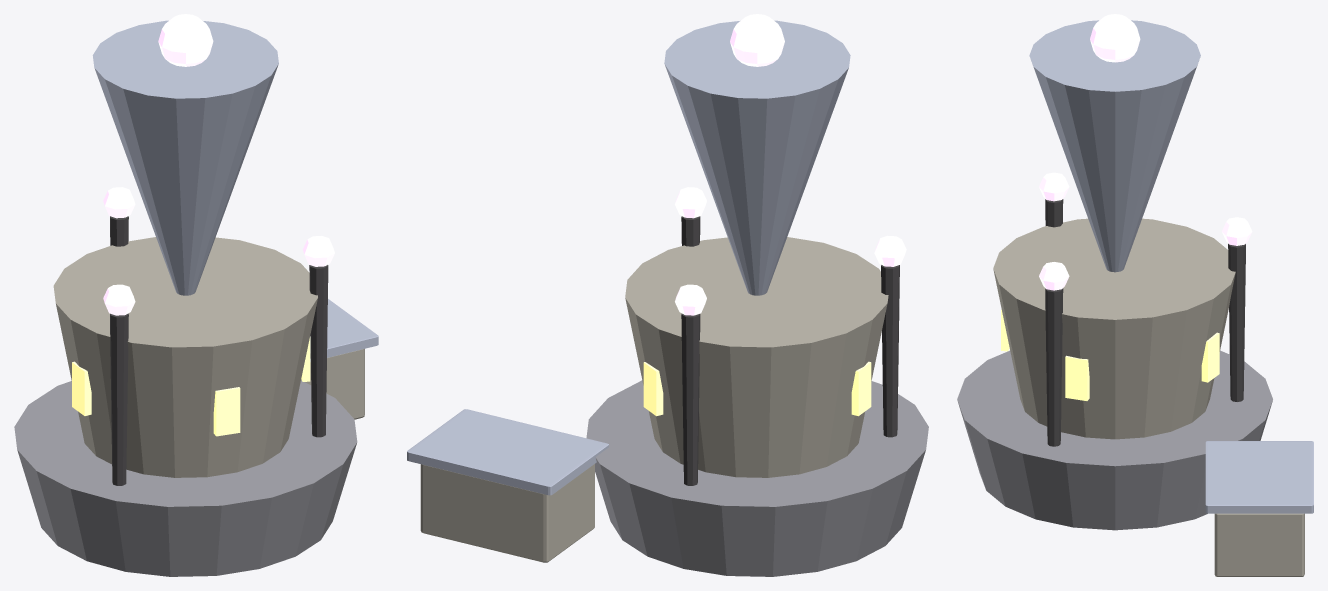
The model's file is hq_luminar.glb.
3 views of the same model, side by side, from view 1: azimuth 30°, elevation 25°; view 2: azimuth 150°, elevation 25°; view 3: azimuth 270°, elevation 25° (orthographic). The views are drawn at different scales.
Parts seen in each view (by area): view 1: HL_Body, HL_Plinth, HL_Spire, HL_CoilRod.002, HL_CoilRod.001, HL_Star, HL_Annex, HL_AnnexRoof, HL_Window.002, HL_Window.003, HL_CoilOrb.002, HL_CoilOrb (+2 smaller); view 2: HL_Body, HL_Plinth, HL_Spire, HL_Annex, HL_AnnexRoof, HL_CoilRod, HL_CoilRod.002, HL_Star, HL_Window, HL_Window.003, HL_CoilOrb, HL_CoilOrb.002 (+1 smaller); view 3: HL_Body, HL_Plinth, HL_Spire, HL_AnnexRoof, HL_Annex, HL_CoilRod.001, HL_CoilRod, HL_Star, HL_Window.001, HL_Window, HL_CoilOrb.001, HL_CoilOrb.002 (+2 smaller).
Boxes of the visible parts, <box> form: HL_Body: <box>53,237,317,477</box>; HL_Plinth: <box>14,380,357,576</box>; HL_Spire: <box>92,20,278,295</box>; HL_CoilRod.002: <box>110,313,128,485</box>; HL_CoilRod.001: <box>309,265,328,437</box>; HL_Star: <box>158,14,213,66</box>; HL_Annex: <box>301,349,364,419</box>; HL_AnnexRoof: <box>310,299,378,361</box>; HL_Window.002: <box>213,387,240,436</box>; HL_Window.003: <box>72,361,91,415</box>; HL_CoilOrb.002: <box>103,284,135,315</box>; HL_CoilOrb: <box>103,187,135,218</box>; HL_Body: <box>625,237,888,477</box>; HL_Plinth: <box>586,380,928,576</box>; HL_Spire: <box>664,20,850,295</box>; HL_Annex: <box>420,464,594,562</box>; HL_AnnexRoof: <box>407,409,608,495</box>; HL_CoilRod: <box>681,313,700,485</box>; HL_CoilRod.002: <box>881,265,899,437</box>; HL_Star: <box>730,14,784,66</box>; HL_Window: <box>643,362,663,416</box>; HL_Window.003: <box>851,361,871,416</box>; HL_CoilOrb: <box>675,284,706,315</box>; HL_CoilOrb.002: <box>874,235,906,266</box>; HL_Body: <box>993,218,1235,439</box>; HL_Plinth: <box>957,350,1272,530</box>; HL_Spire: <box>1029,20,1200,272</box>; HL_AnnexRoof: <box>1205,441,1313,513</box>; HL_Annex: <box>1214,513,1304,576</box>; HL_CoilRod.001: <box>1045,288,1063,446</box>; HL_CoilRod: <box>1228,243,1245,401</box>; HL_Star: <box>1090,14,1140,62</box>; HL_Window.001: <box>1065,355,1089,400</box>; HL_Window: <box>1201,332,1219,382</box>; HL_CoilOrb.001: <box>1039,262,1069,290</box>; HL_CoilOrb.002: <box>1039,172,1069,201</box>.
Bounding box in the file's own units: 4.6 × 5.58 × 3.95.
